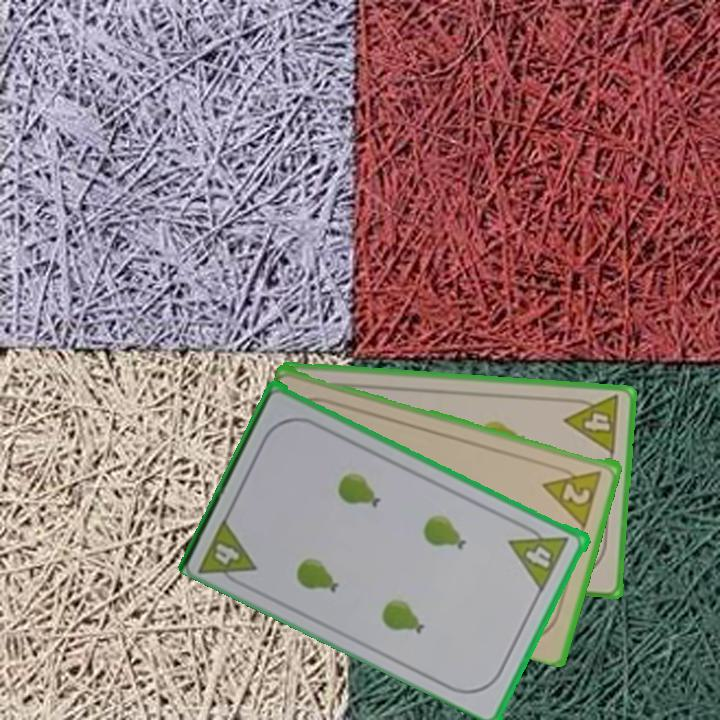2p: (540, 462, 606, 528)
4p: (195, 512, 261, 592), (506, 518, 572, 593), (561, 392, 623, 457)
